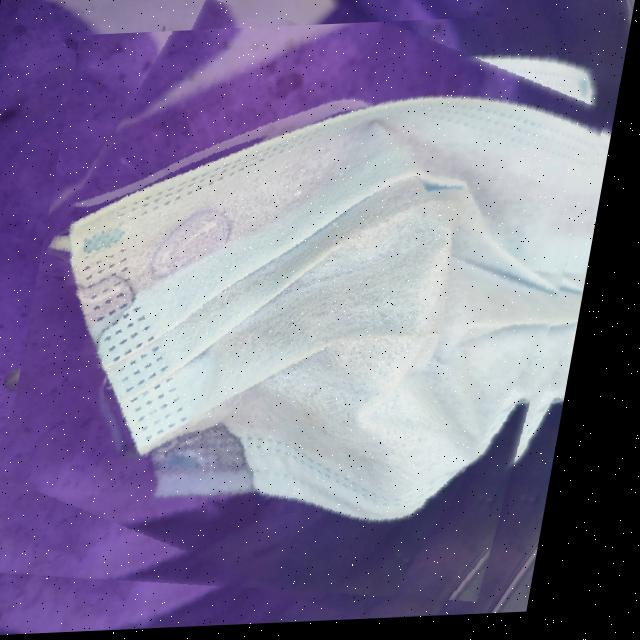litter: (0, 17, 635, 625)
